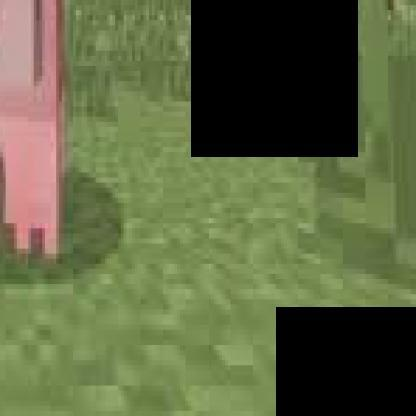minecraft-pigs: (0, 0, 96, 284)
